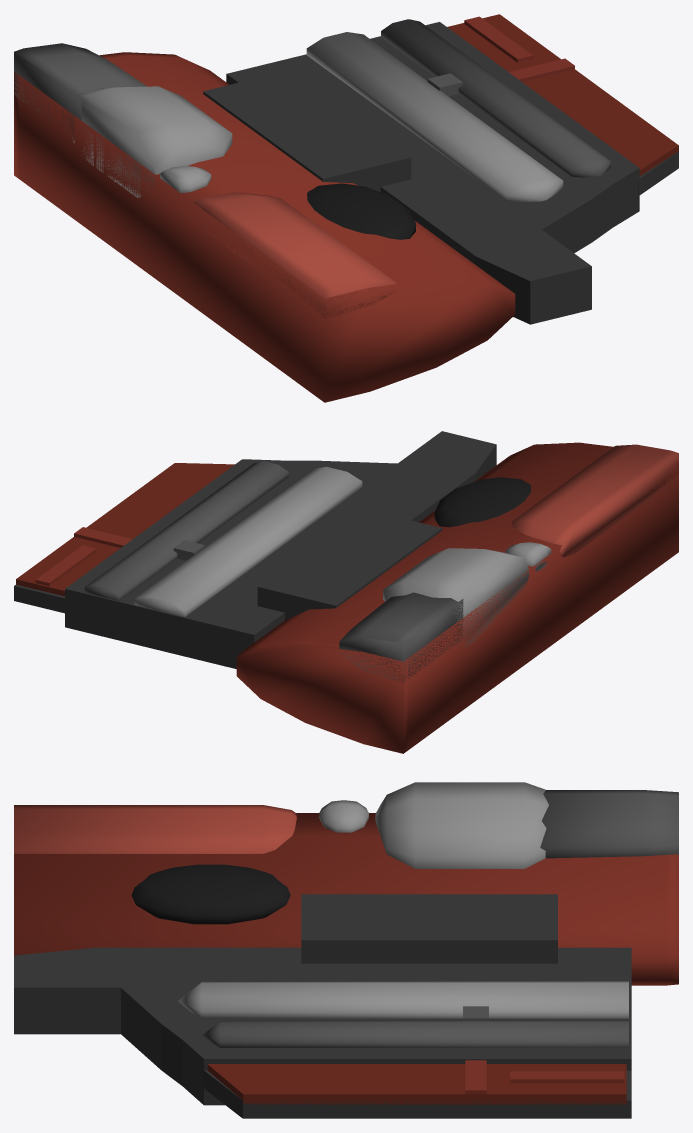
File: newshi-241.glb
The picture shows the model from 3 angles, top to bottom: view 1: azimuth 30°, elevation 25°; view 2: azimuth 150°, elevation 25°; view 3: azimuth 270°, elevation 25°; orthographic projection. The views are drawn at different scales.
Visible parts, largest first — view 1: newshi-241; view 2: newshi-241; view 3: newshi-241.
Boxes of the visible parts, x1=… form: newshi-241: x1=14, y1=14, x2=678, y2=402; newshi-241: x1=14, y1=431, x2=678, y2=753; newshi-241: x1=14, y1=782, x2=678, y2=1118.
Bounding box in the file's own units: 2 × 0.551 × 2.33.
